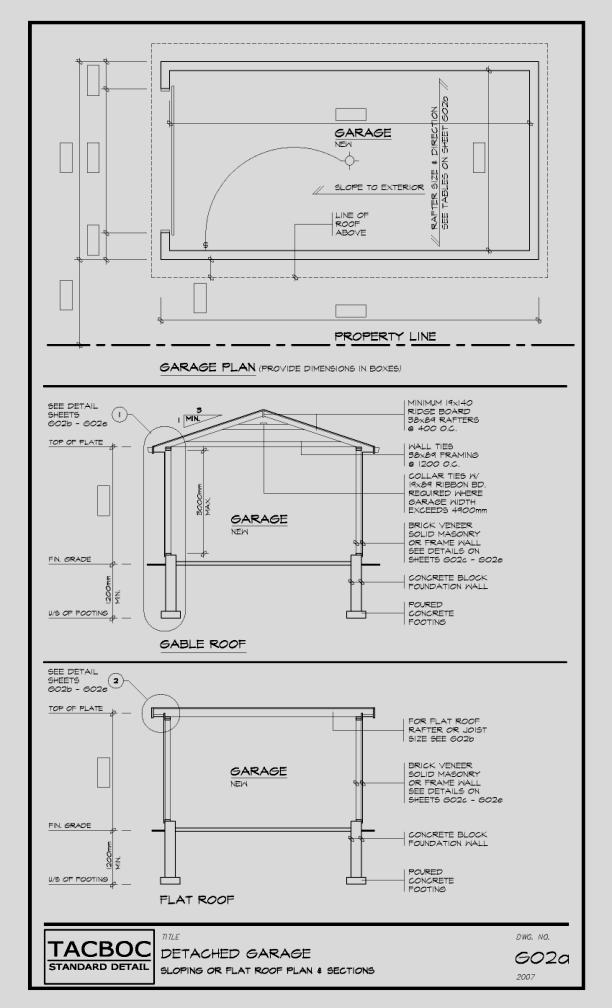detail: (110, 405, 152, 432), (108, 673, 146, 699)
